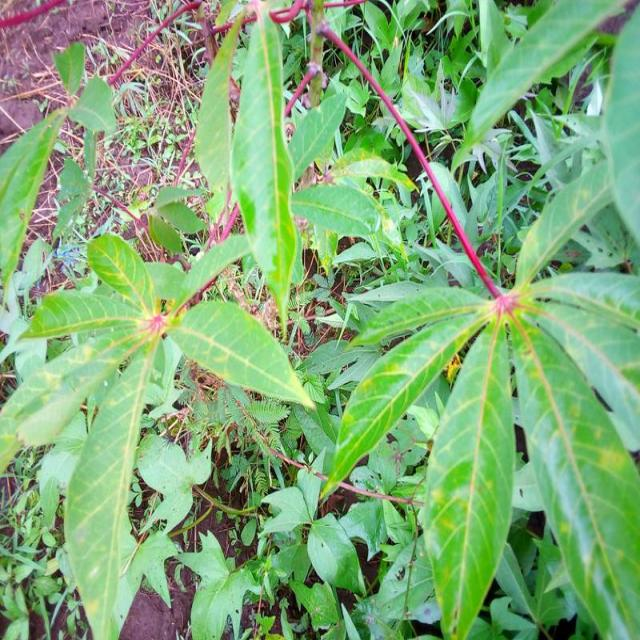cassava leaf: (418, 316, 516, 638), (228, 4, 298, 334), (167, 298, 316, 410)
